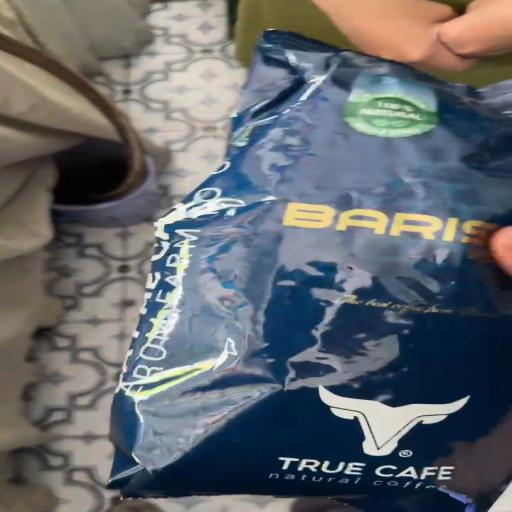cafe_hat: (108, 30, 511, 512)
